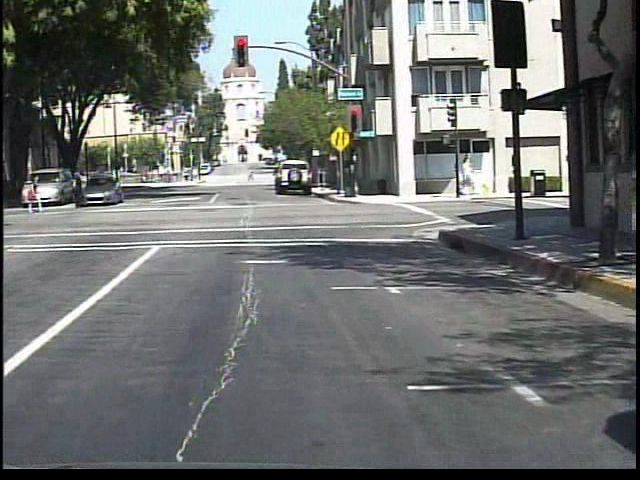person: (64, 169, 87, 214), (21, 177, 44, 217), (247, 169, 255, 186)
